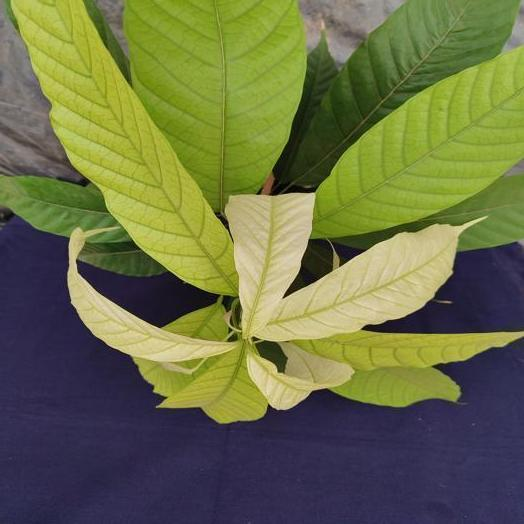Healthy Leaf: (291, 0, 519, 184), (338, 172, 523, 250), (274, 25, 337, 180), (0, 174, 130, 242), (79, 241, 165, 275)
Iron: (13, 0, 237, 294), (314, 49, 523, 235), (124, 0, 305, 210), (262, 221, 475, 341), (67, 229, 233, 361), (226, 193, 314, 337), (295, 330, 523, 370), (159, 342, 267, 422), (247, 342, 353, 409), (332, 367, 460, 407), (134, 358, 195, 396), (170, 305, 221, 334)
